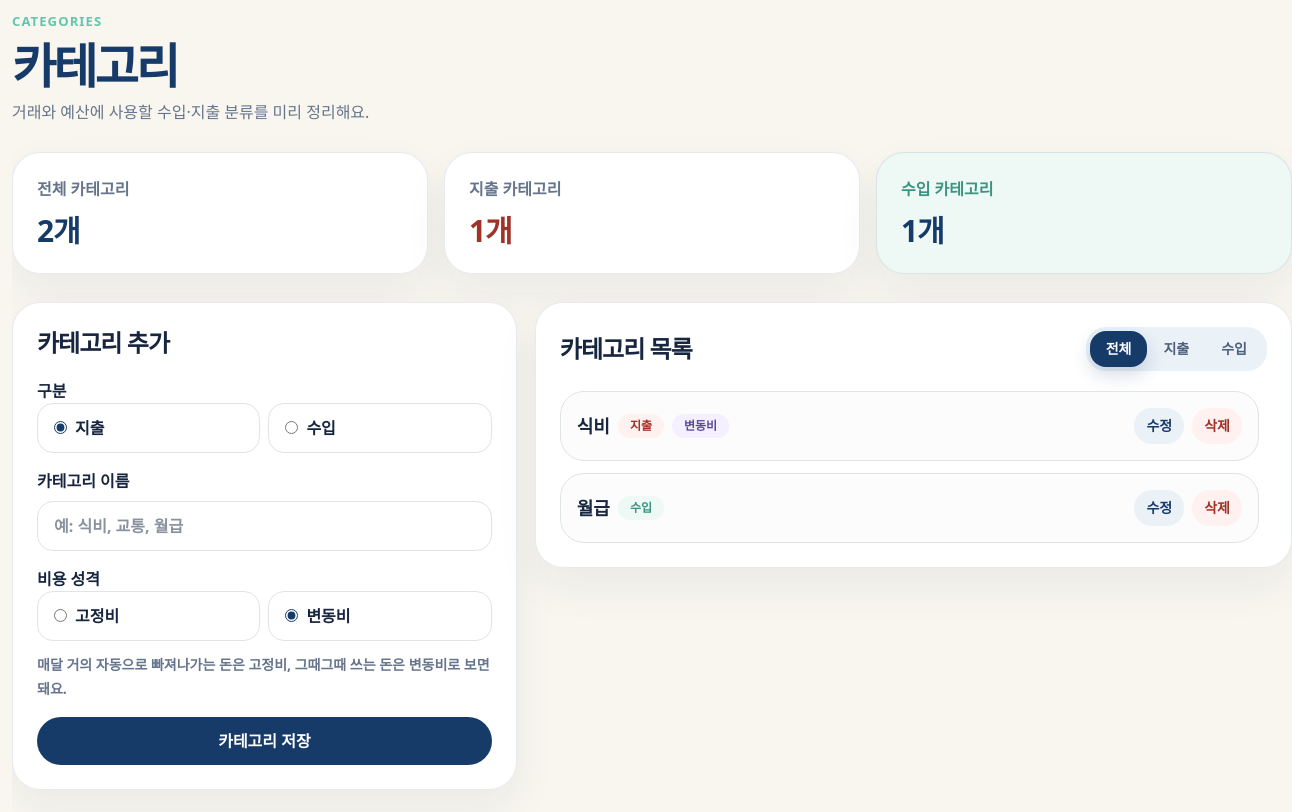
Scenario: CategoriesPage › fills the form from a category and saves edits
The image size is (1292, 812).
Expected: the text "식비" is shown, [577,412,610,440]
Click the button with aria-label "식비 수정": {"x": 1159, "y": 426} [1134,408,1184,444]
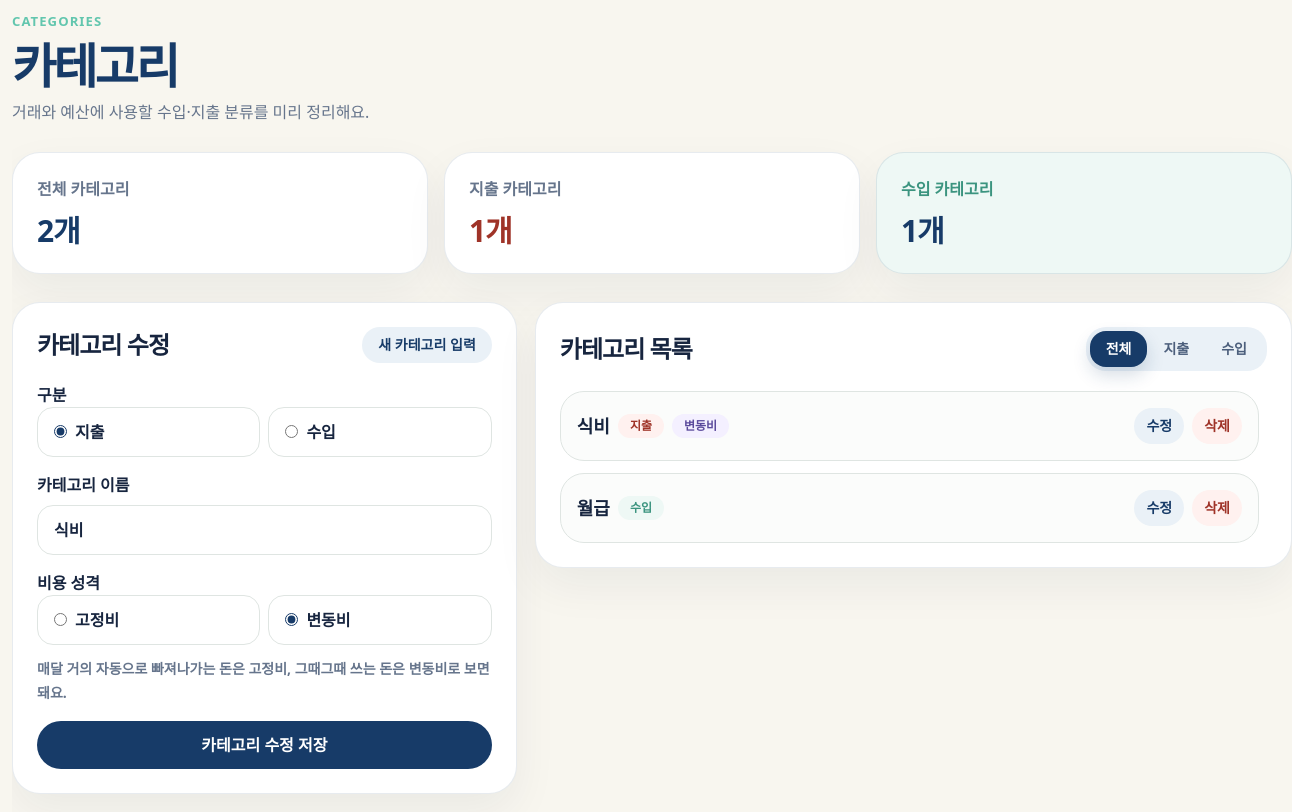
Expected: the radio button labelled "변동비" is checked, [285,612,298,626]
Now the field labelled "카테고리 이름" holds "식비"
Replace the text in the field labelled "카테고리 이름" with "외식": {"x": 264, "y": 530} [37,504,492,554]
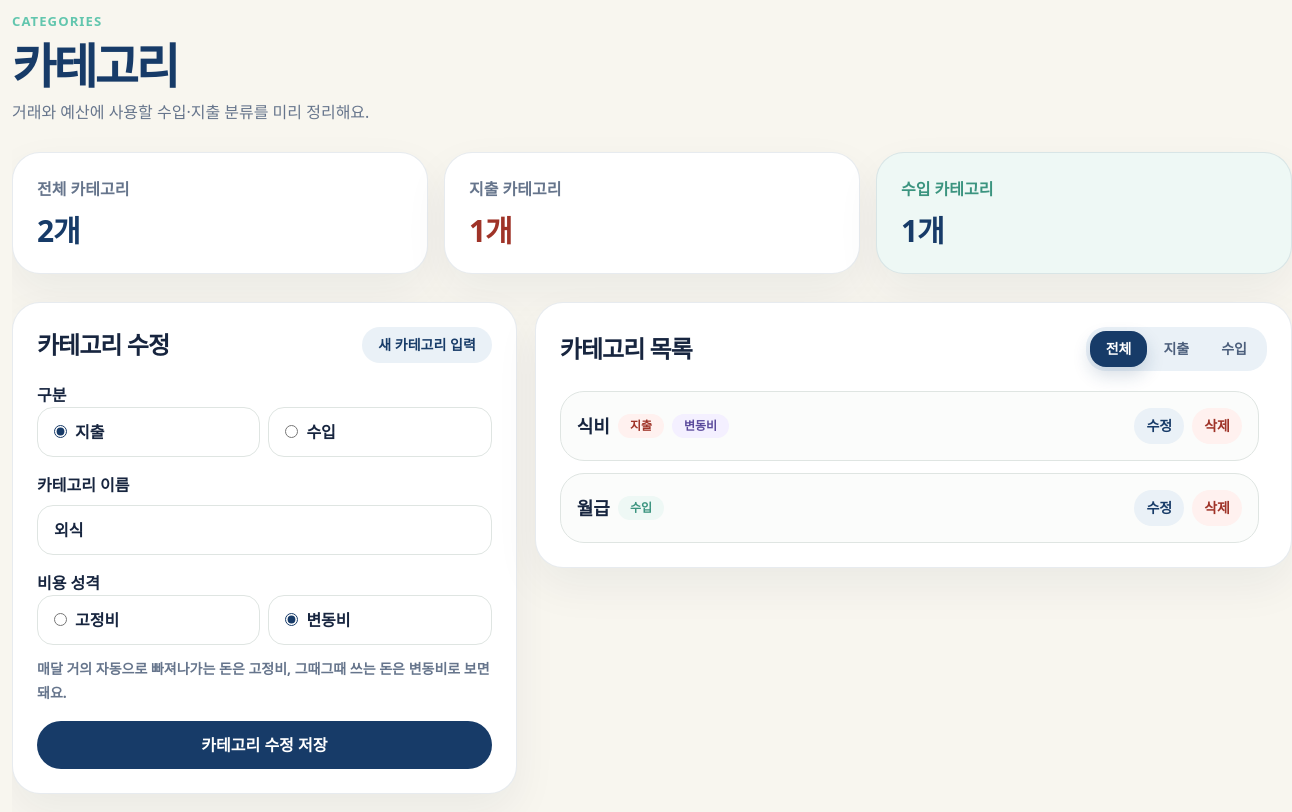
Click the radio button labelled "고정비": {"x": 60, "y": 619} [54,612,67,626]
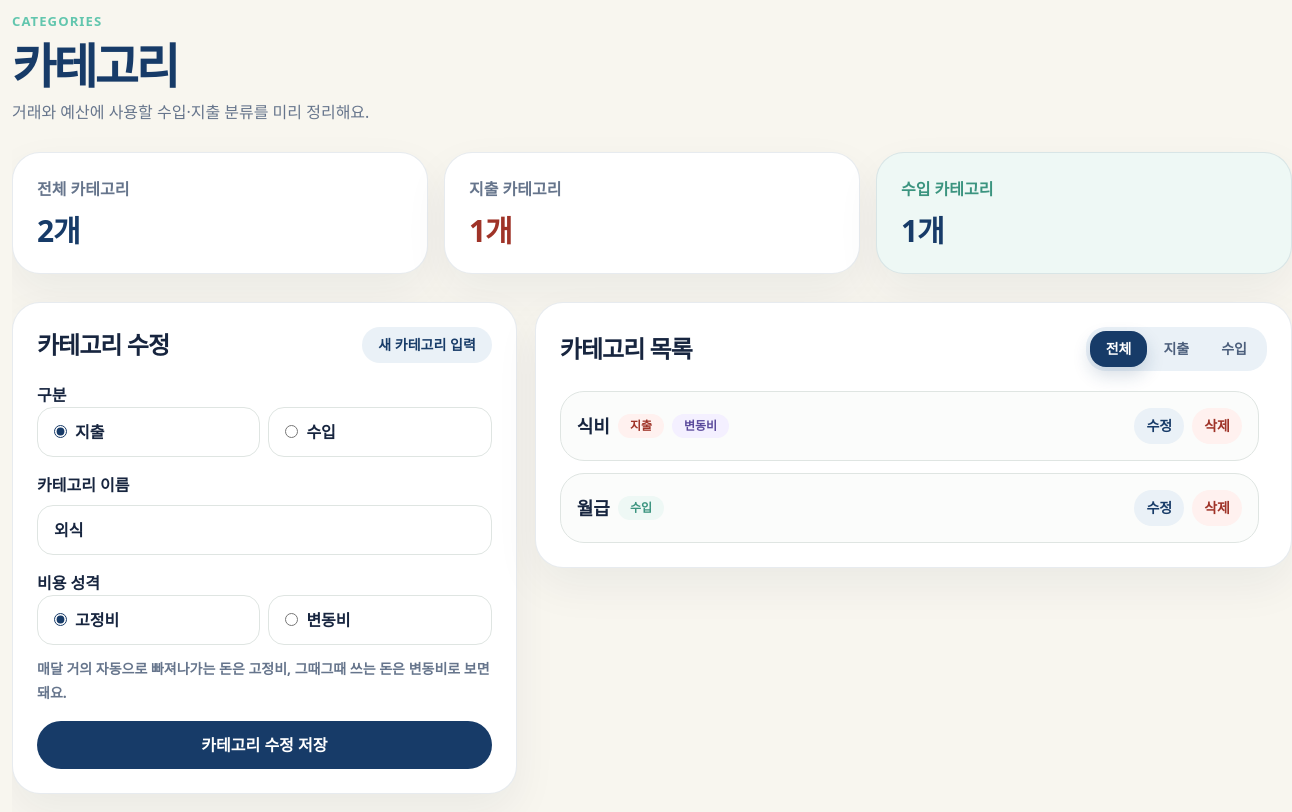
Click the button "카테고리 수정 저장": {"x": 264, "y": 744} [37,720,492,768]
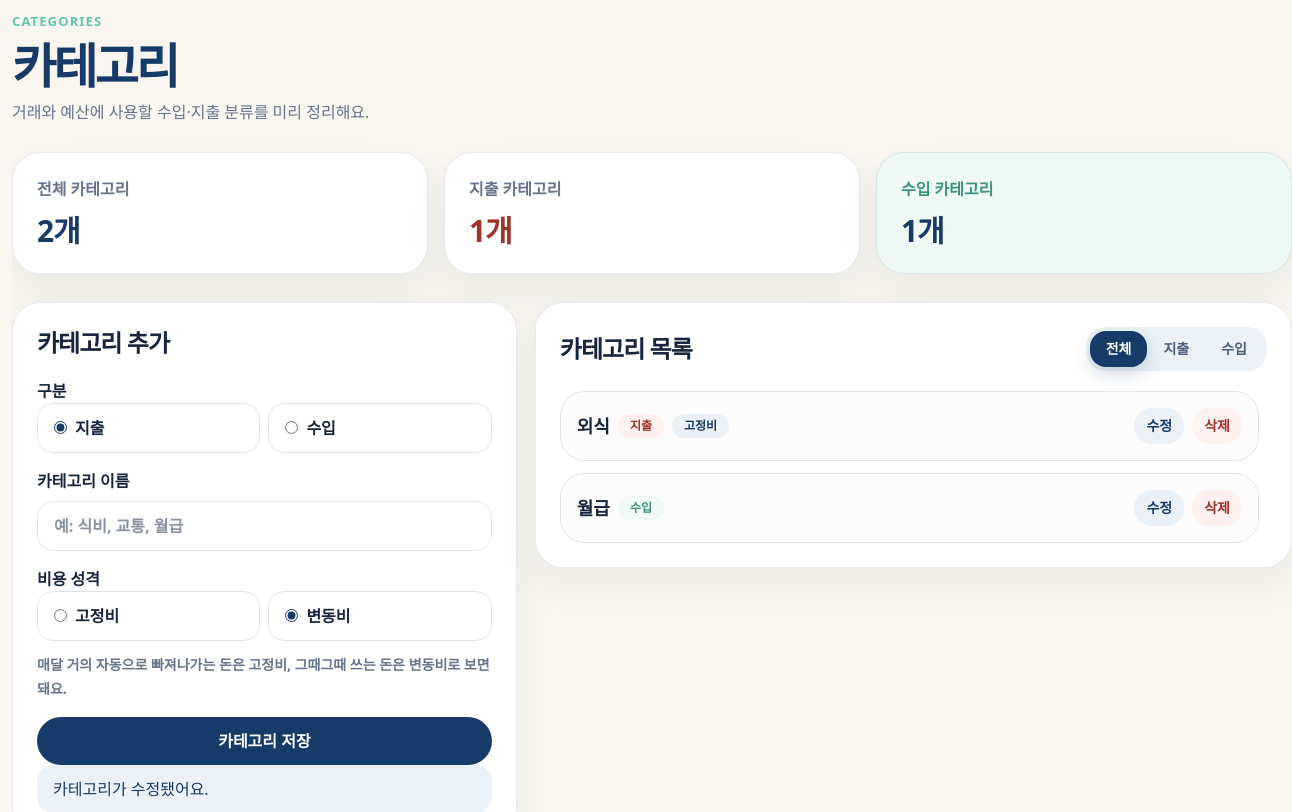
Now the message reads "카테고리가 수정됐어요.", box [53,778,209,800]
Now the text "외식" is shown, box [577,412,610,440]
